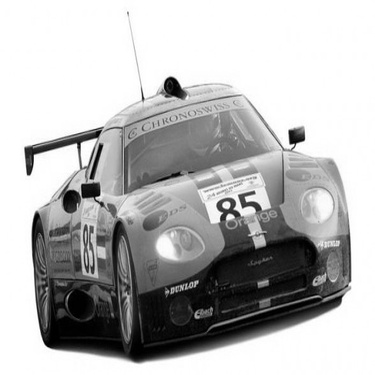car: (11, 69, 371, 339)
